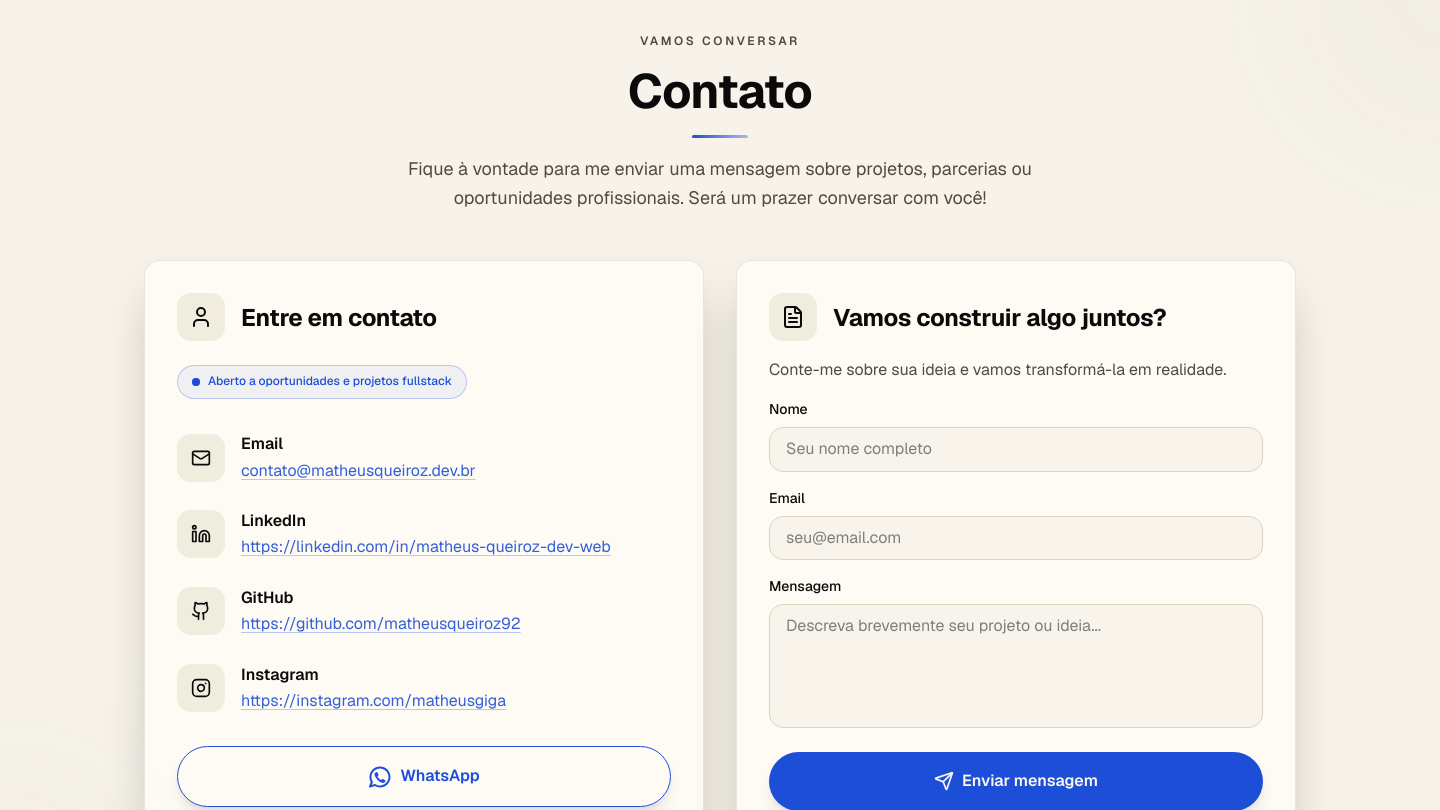
Test: ContactSection › shows error message when submission fails
Type "Matheus Queiroz" into the field labelled "Nome" at coordinates (1016, 450), box [769,428,1263,472]
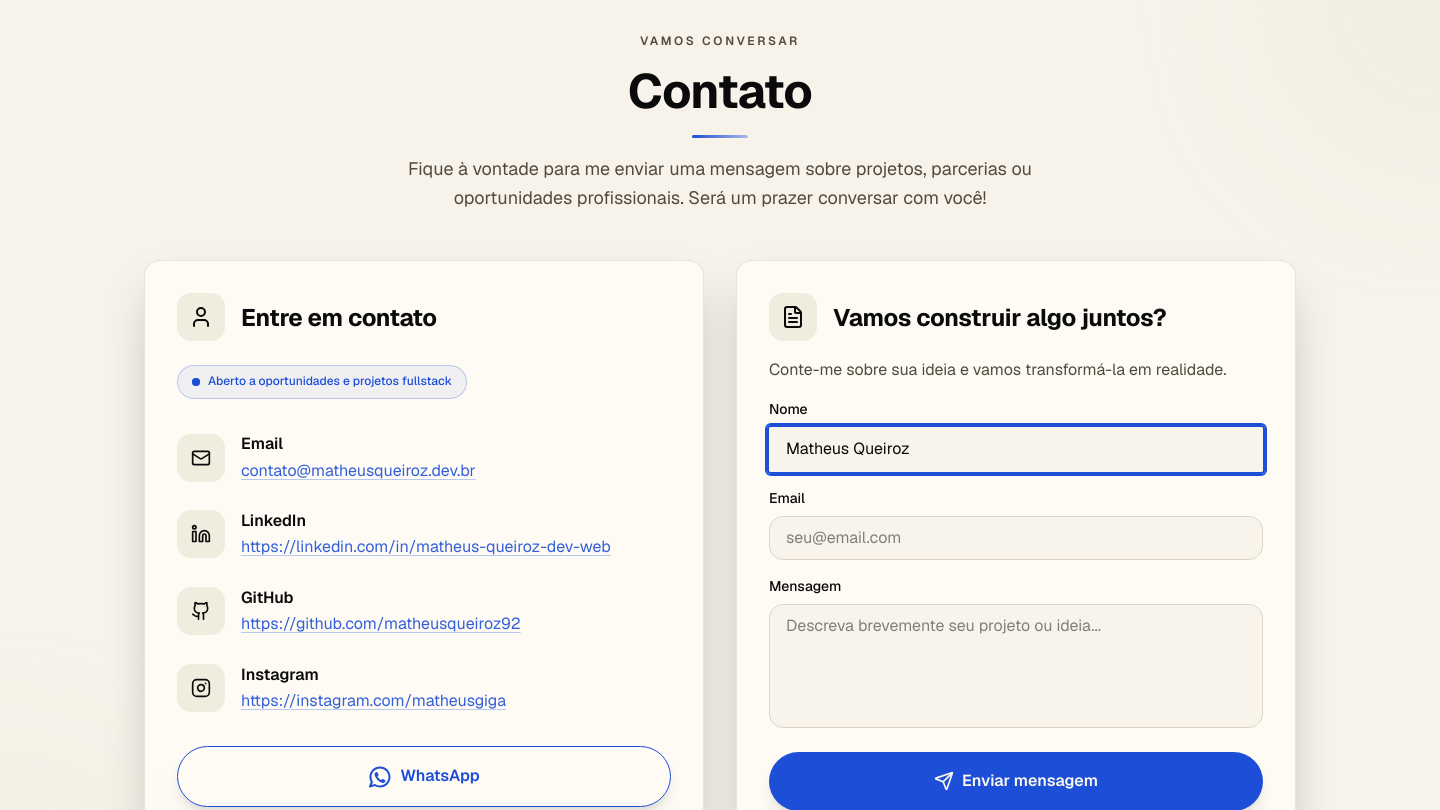
Type "contato@example.com" into the field labelled "Email" at coordinates (1016, 538), box [769,516,1263,560]
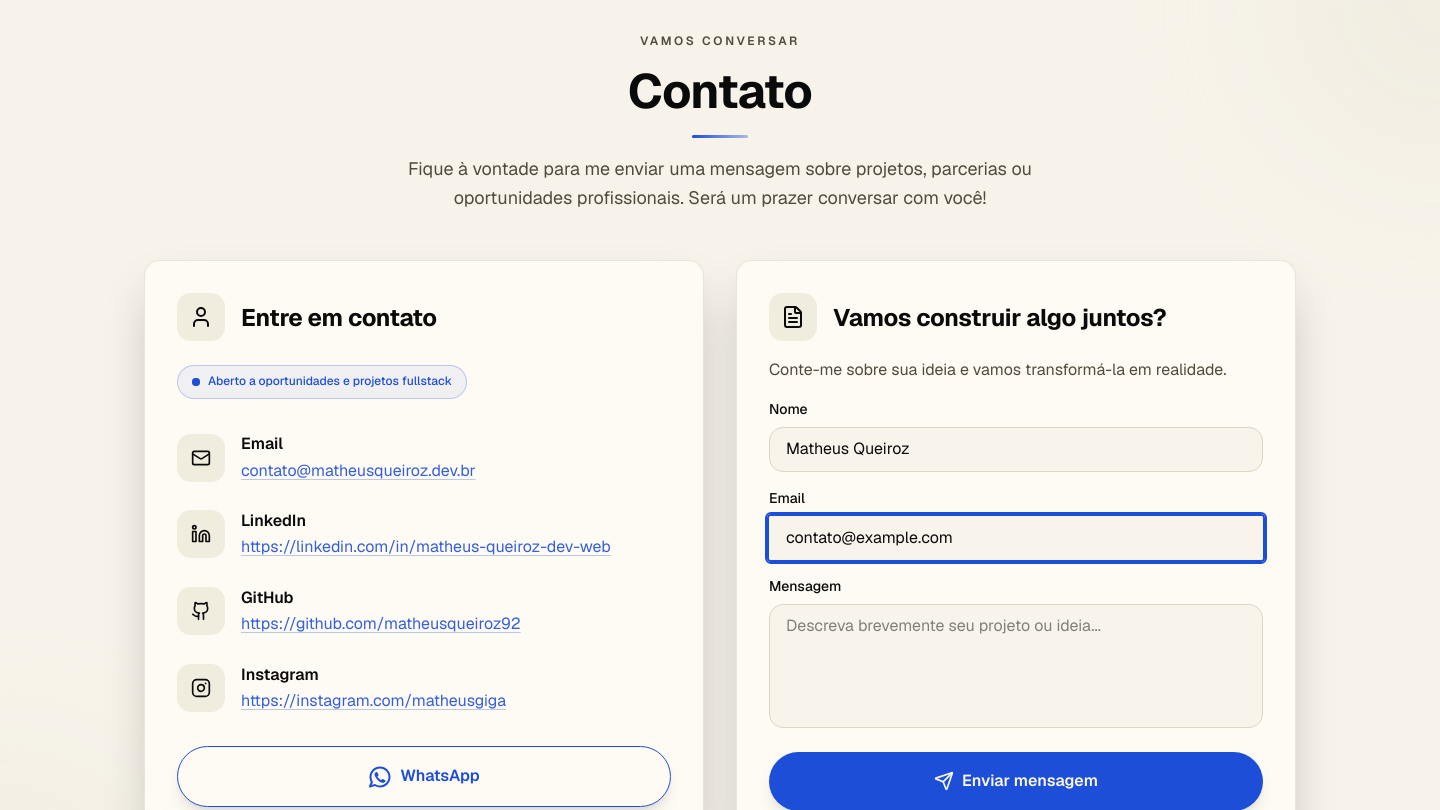
Type "Mensagem válida para simular falha no envio." into the text box labelled "Mensagem" at coordinates (1016, 666), box [769,604,1263,728]
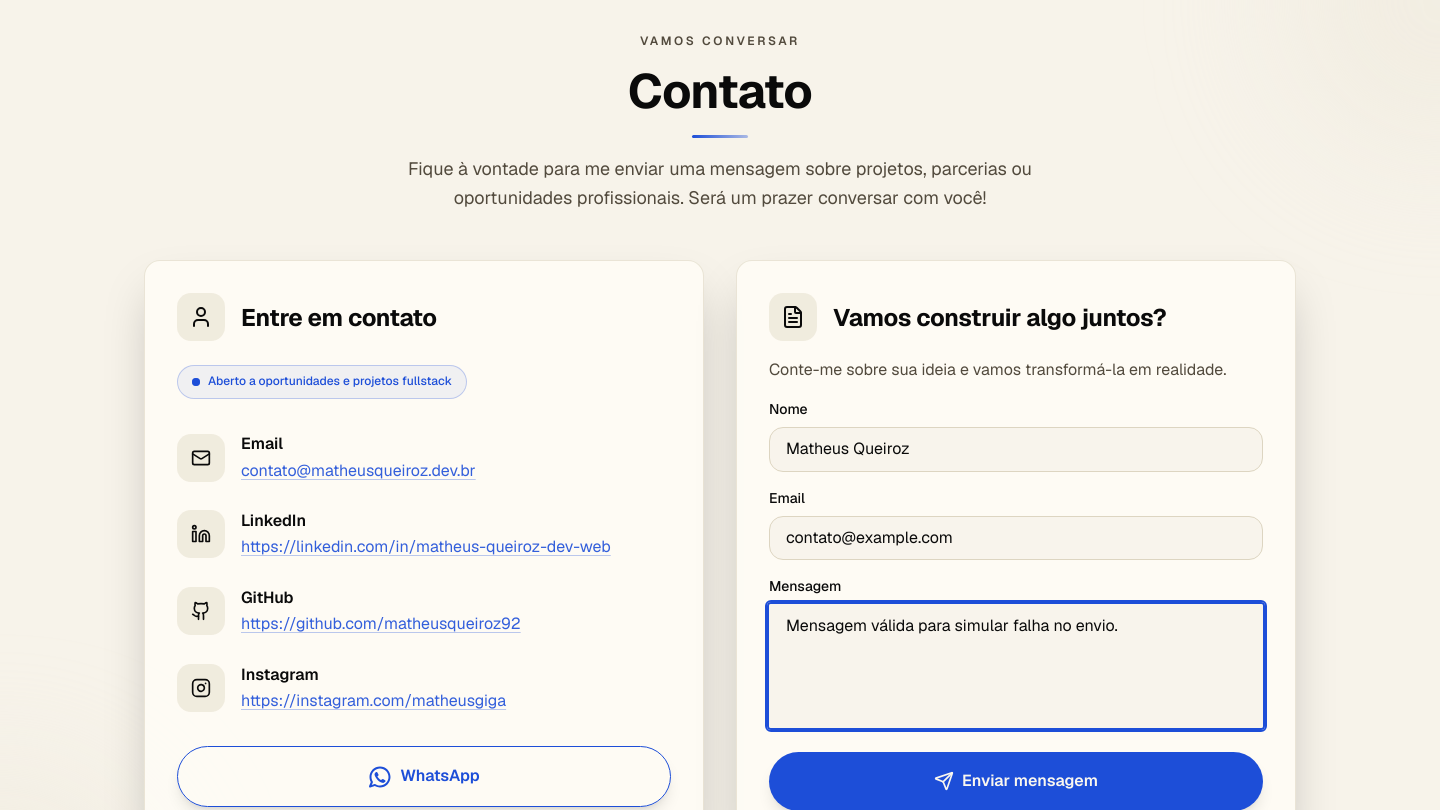
Click the button "Enviar mensagem" at coordinates (1016, 781), box [769,752,1263,809]
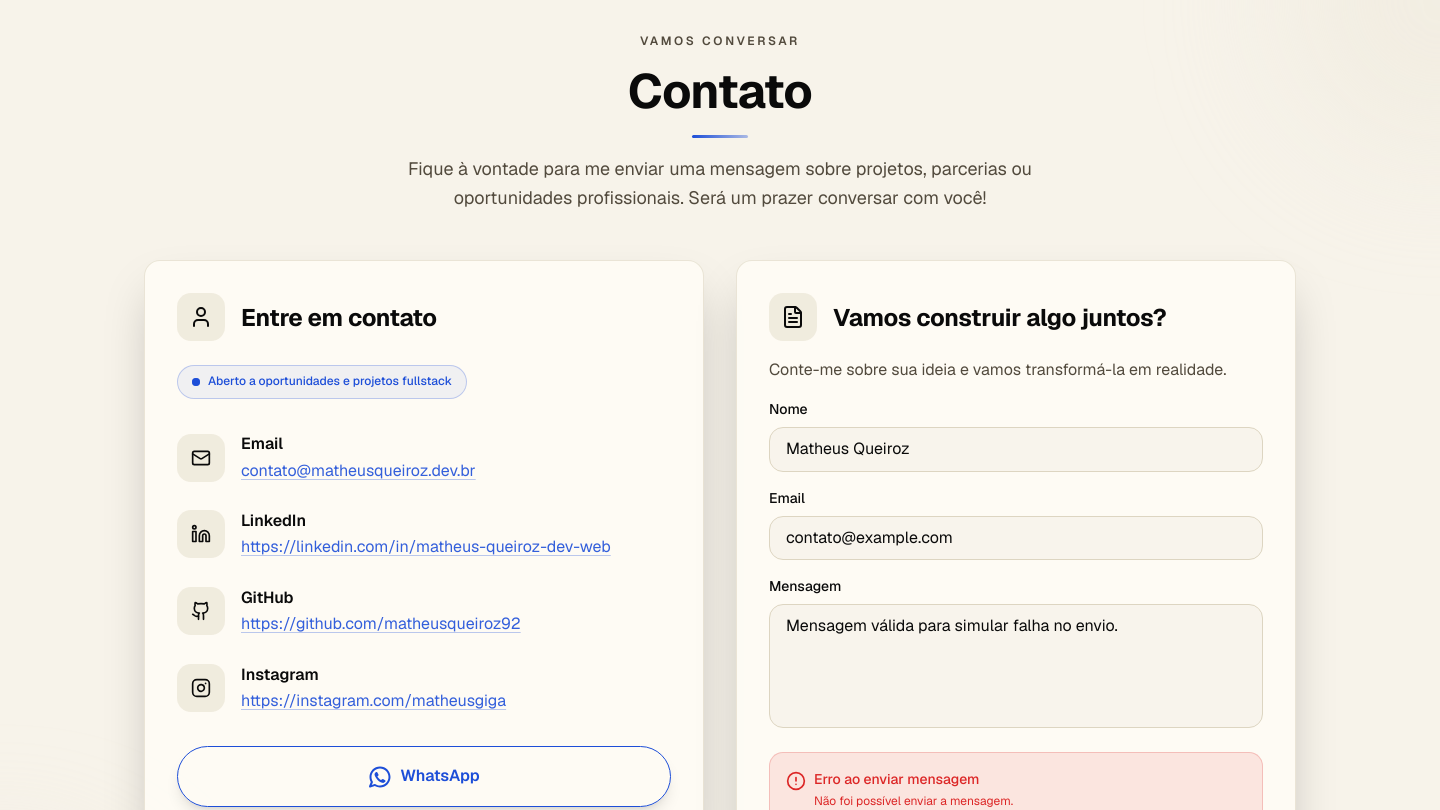
Expected: the text "Erro ao enviar mensagem" is shown, [814,770,980,788]
Expected: the text "Não foi possível enviar a mensagem." is shown, [814,793,1013,809]
